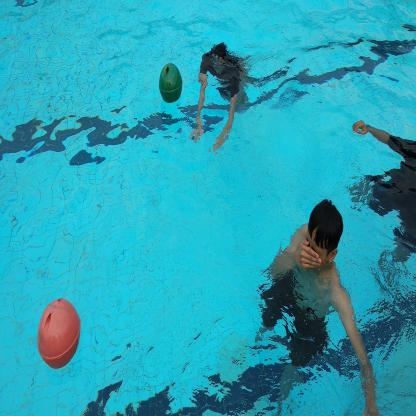green_buoy: (156, 58, 184, 106)
red_buoy: (34, 294, 85, 375)
